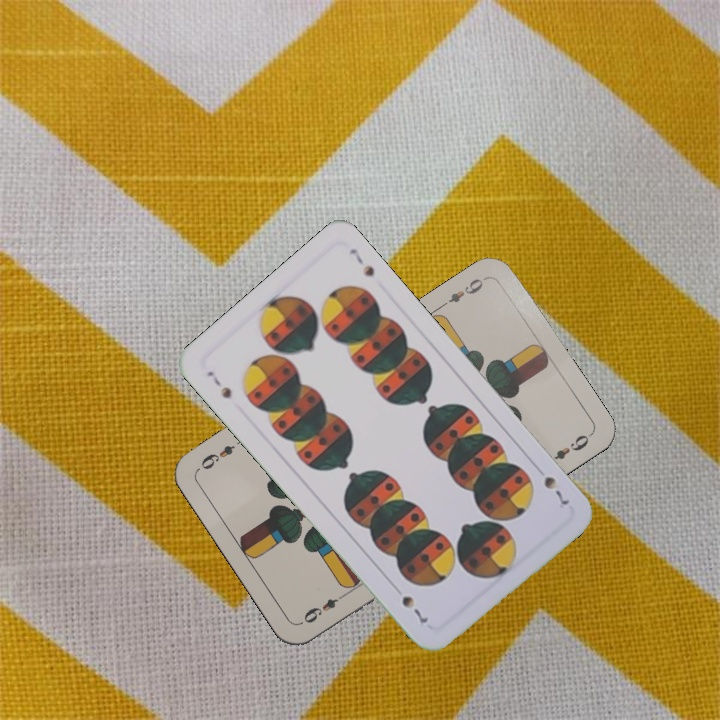E9: (297, 588, 350, 627), (436, 273, 489, 311)
S7: (539, 472, 572, 508), (203, 366, 234, 401)
